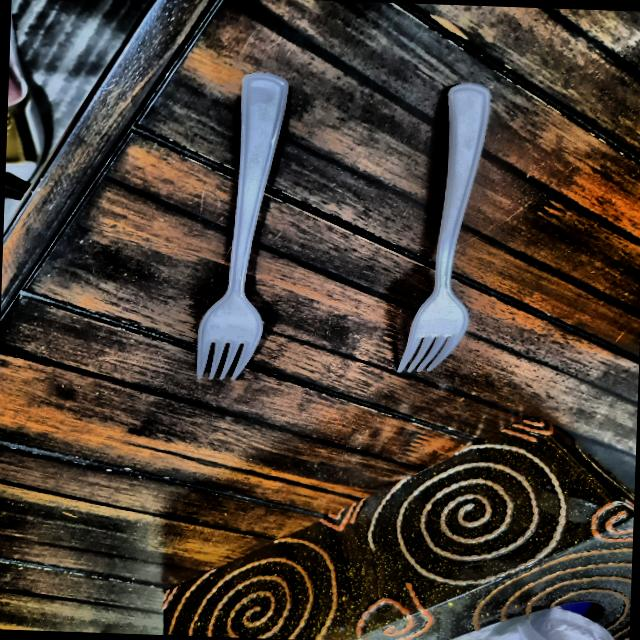plastic utensil: (190, 65, 288, 384), (386, 80, 490, 375)
